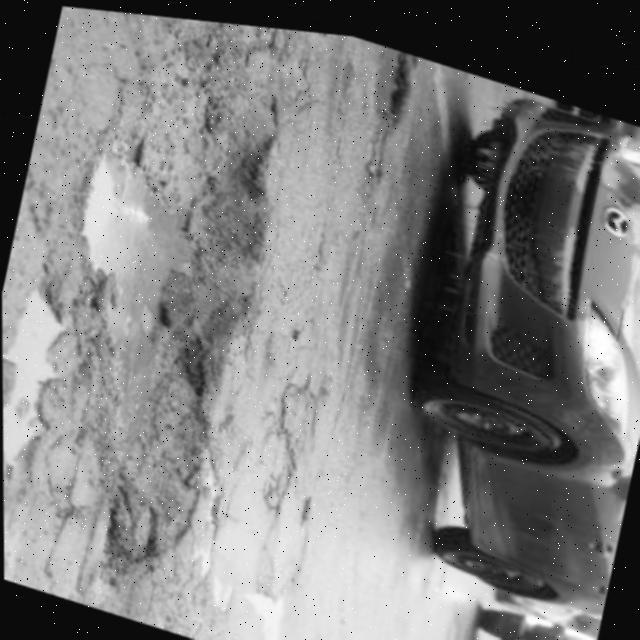pothole: (1, 46, 304, 599), (351, 31, 425, 126)
